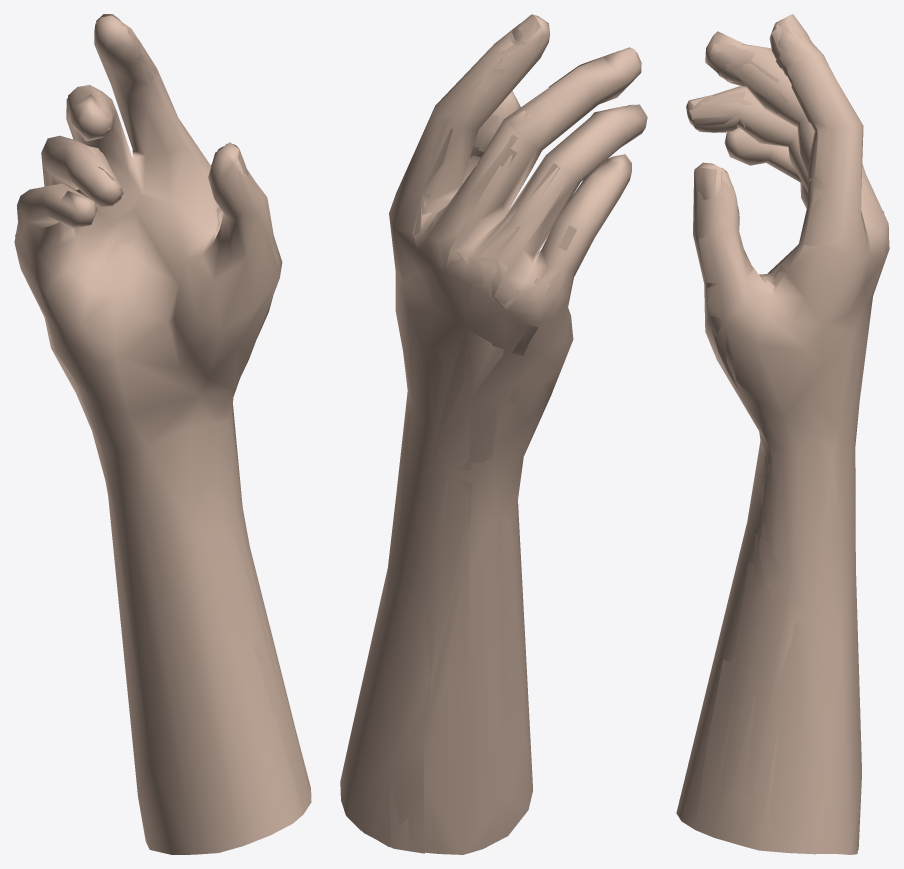
File: Hand.fbx
3 renders of one model, left to right at view 1: azimuth 30°, elevation 25°; view 2: azimuth 150°, elevation 25°; view 3: azimuth 270°, elevation 25°, orthographic. The views are drawn at different scales.
Visible parts, largest first — view 1: huitugou_5002_37; view 2: huitugou_5002_37; view 3: huitugou_5002_37.
Part boxes in pixels (left/top/right/bottom): huitugou_5002_37: left=14, top=14, right=311, bottom=854; huitugou_5002_37: left=340, top=14, right=647, bottom=854; huitugou_5002_37: left=676, top=14, right=889, bottom=854.
Size of the model in its own units: 9.22 by 28.48 by 6.95.
